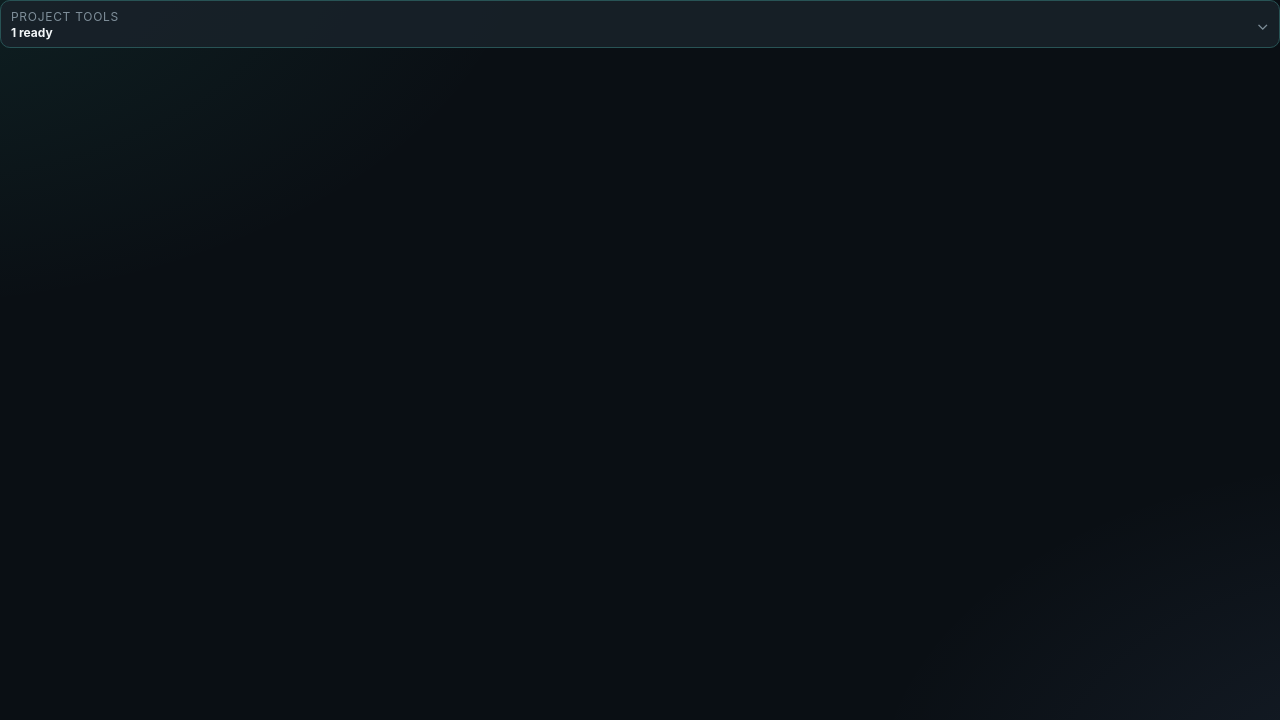
Test: AgentMcpProjectToolsPanel › shows only exact admitted tools from the active project runtime
Expected: the text "1 ready" is shown, [11,24,53,40]
Click the text "Project tools".
click(65, 16)  # box [11,9,119,24]
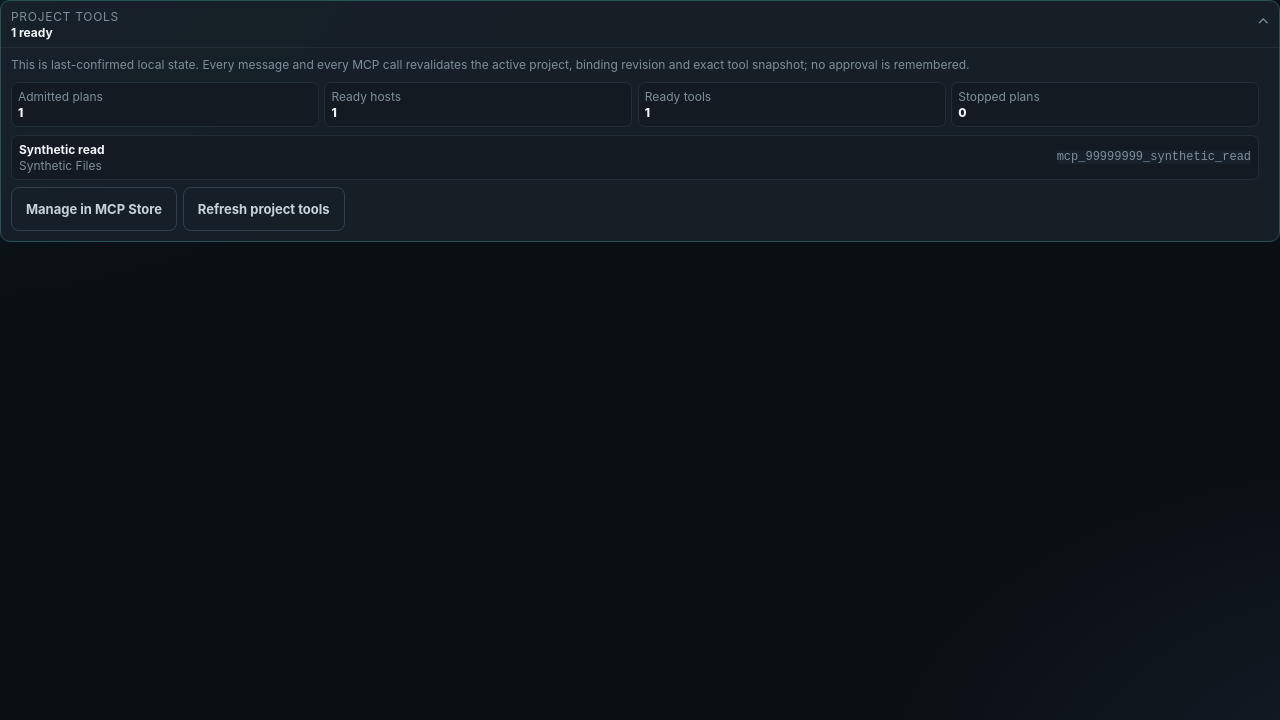
Now the text "Synthetic read" is shown, box [19,142,104,157]
Now the text "mcp_99999999_synthetic_read" is shown, box [1057,150,1251,164]
